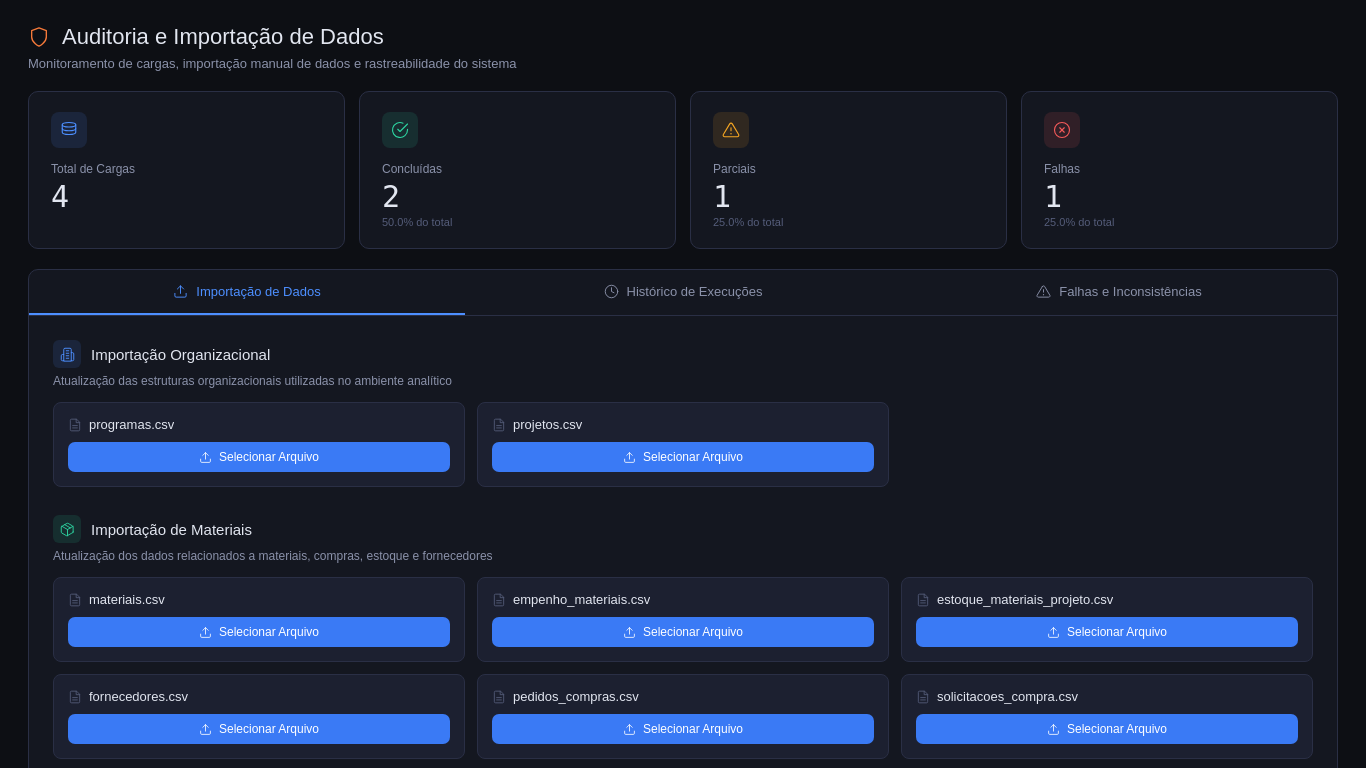
it: Auditoria.vue › Aba Histórico de Execuções › exibe subtítulo da aba
Click the button with class "tab-btn" showing "Histórico de Execuções" at point(683, 292), box [465,270,901,315]
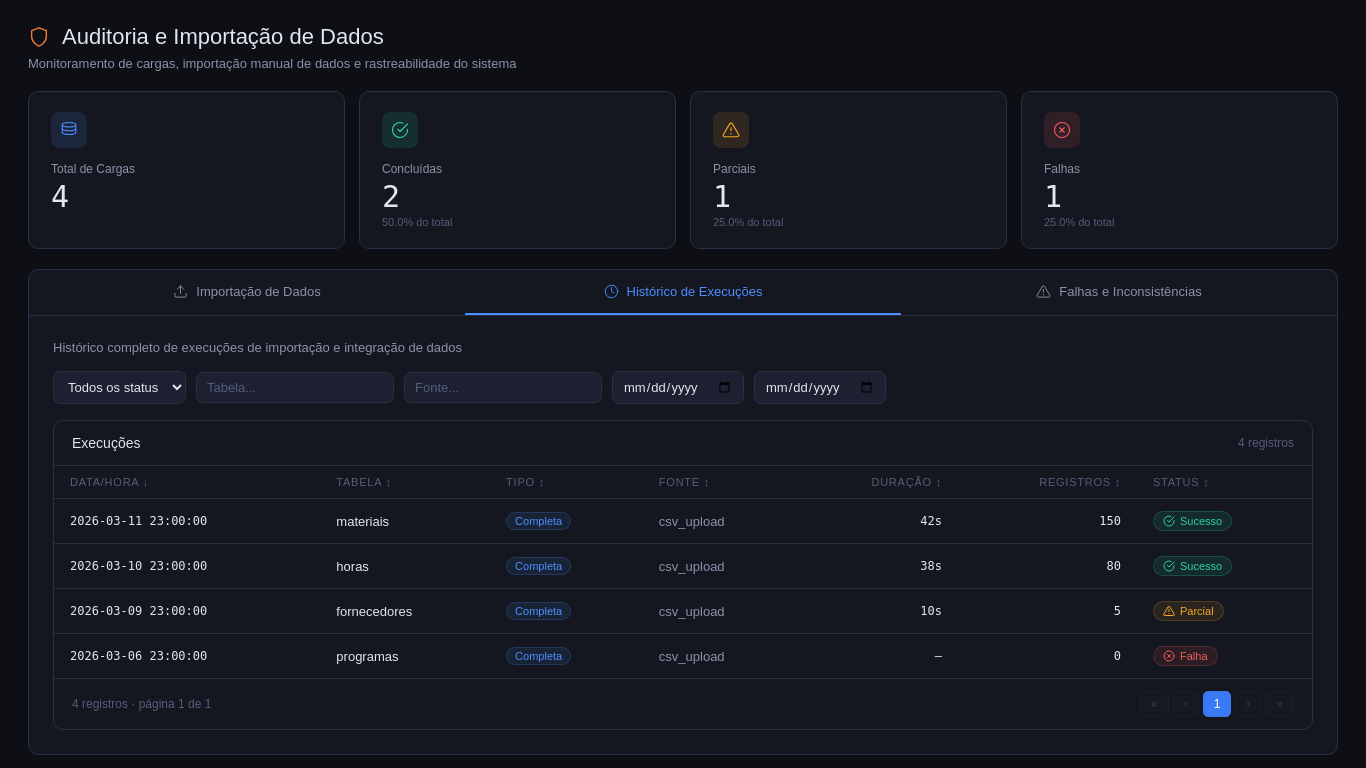
Check: the text "Histórico completo de execuções" is shown, box [53,340,462,355]
